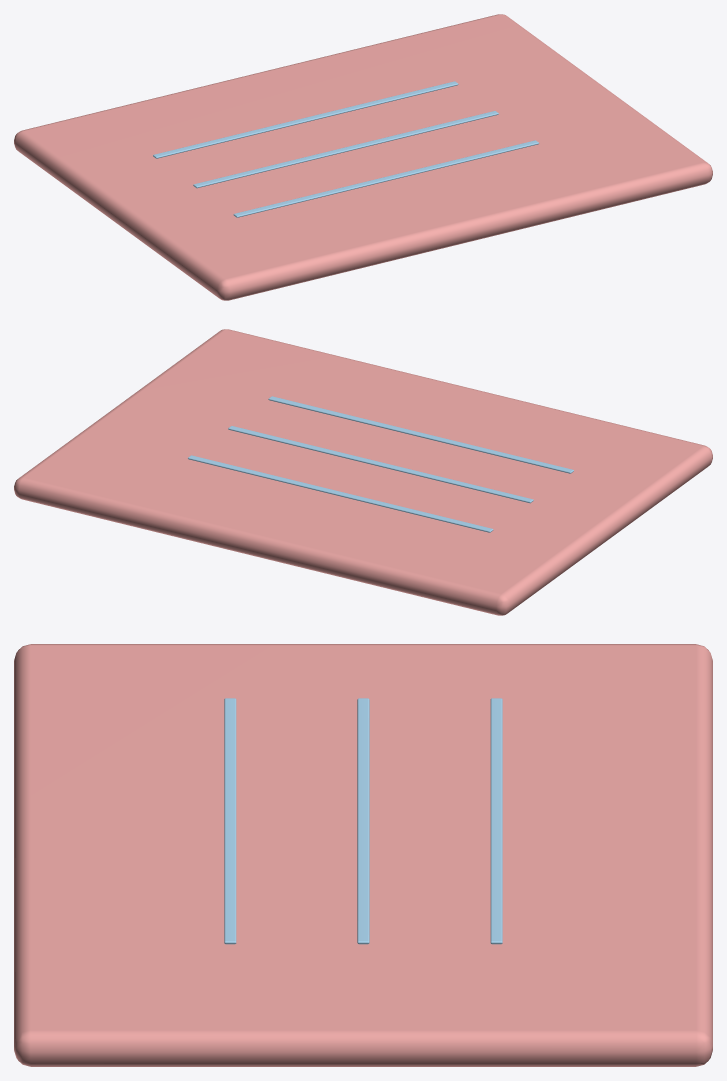
File: officeStickyNotePink.glb
The picture shows the model from 3 angles, top to bottom: view 1: azimuth 30°, elevation 25°; view 2: azimuth 150°, elevation 25°; view 3: azimuth 270°, elevation 25°; orthographic projection. The views are drawn at different scales.
Visible parts, largest first — view 1: Paper, Printed line.001, Printed line, Printed line.002; view 2: Paper, Printed line.001, Printed line.002, Printed line; view 3: Paper, Printed line, Printed line.002, Printed line.001.
Part boxes in pixels (bbox=[...]): Paper: bbox=[14, 14, 712, 300]; Printed line.001: bbox=[193, 111, 498, 188]; Printed line: bbox=[233, 140, 538, 217]; Printed line.002: bbox=[153, 81, 458, 158]; Paper: bbox=[14, 329, 712, 615]; Printed line.001: bbox=[228, 426, 533, 503]; Printed line.002: bbox=[188, 455, 493, 532]; Printed line: bbox=[268, 396, 573, 473]; Paper: bbox=[14, 644, 712, 1066]; Printed line: bbox=[224, 698, 236, 944]; Printed line.002: bbox=[490, 698, 502, 944]; Printed line.001: bbox=[357, 698, 369, 944].
Bounding box in the file's own units: 0.85 × 0.039 × 0.63.
